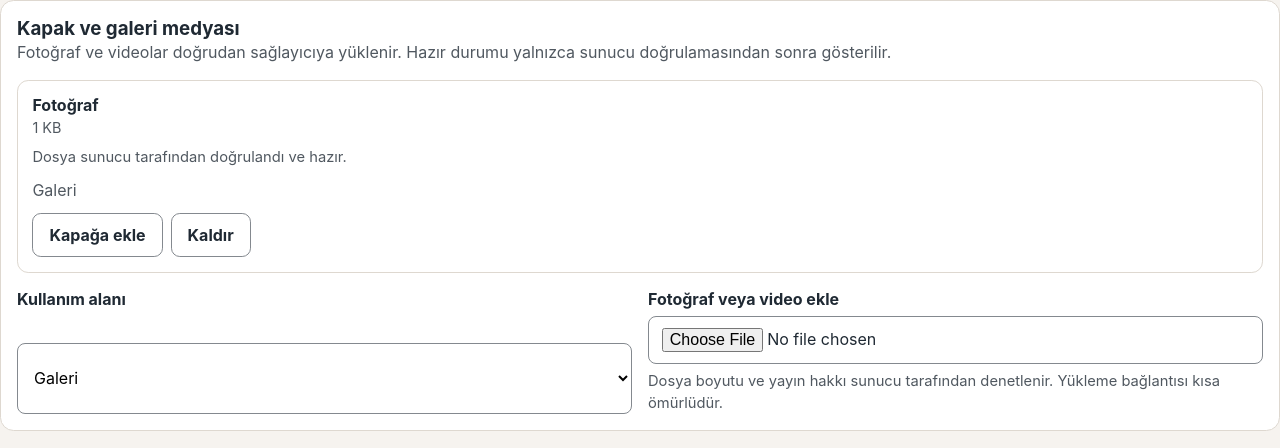
Test: CreatorMediaPanel › keeps the same Ready asset in both cover and gallery placements
Click the button "Kapağa ekle".
click(98, 235)  # box 32,213 -> 163,257
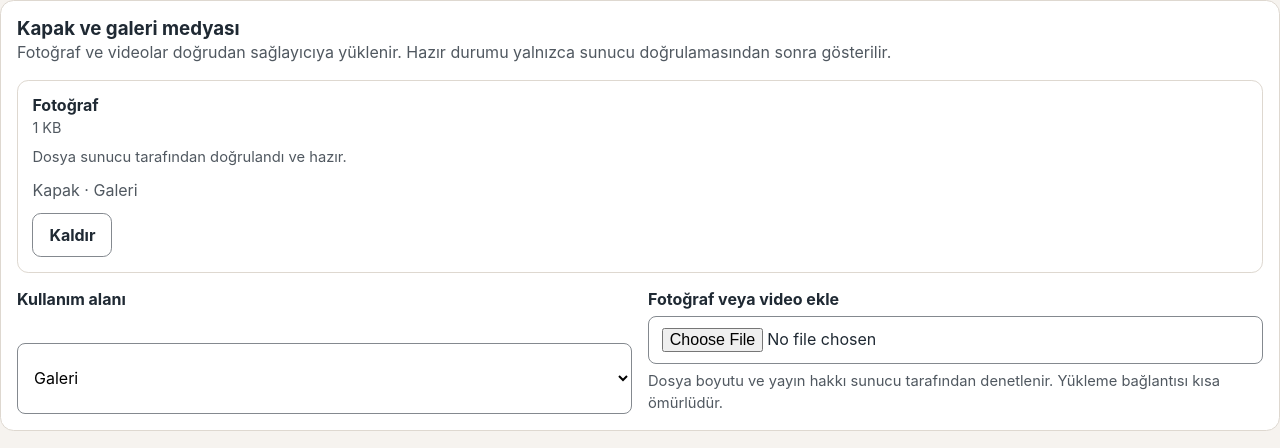
Expected: the text "Kapak · Galeri" is shown, 32,180 -> 138,200
